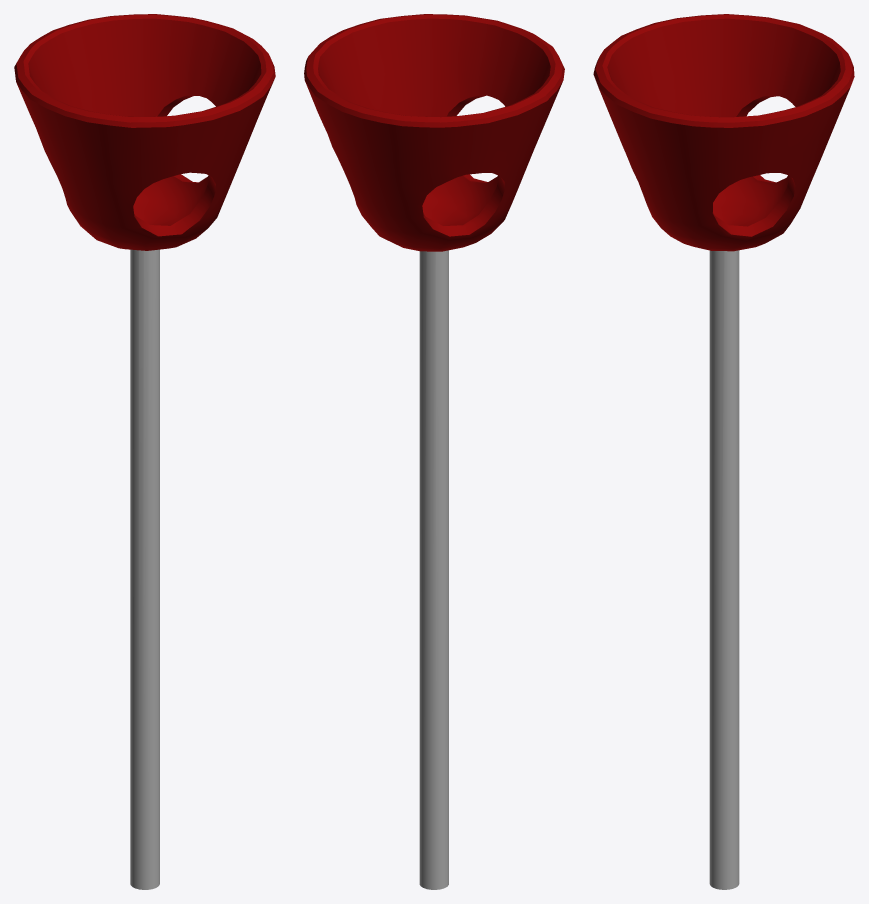
Rendered from goofy-ahh-pole.fbx.
The picture shows the model from 3 angles, left to right: view 1: azimuth 30°, elevation 25°; view 2: azimuth 150°, elevation 25°; view 3: azimuth 270°, elevation 25°; orthographic projection.
Parts seen in each view (by area): view 1: rapidReactPole; view 2: rapidReactPole; view 3: rapidReactPole.
Boxes of the visible parts, bbox=[...] form: rapidReactPole: bbox=[14, 14, 275, 889]; rapidReactPole: bbox=[304, 14, 564, 889]; rapidReactPole: bbox=[593, 14, 854, 889].
Size of the model in its own units: 8.81 by 30.38 by 8.79.
